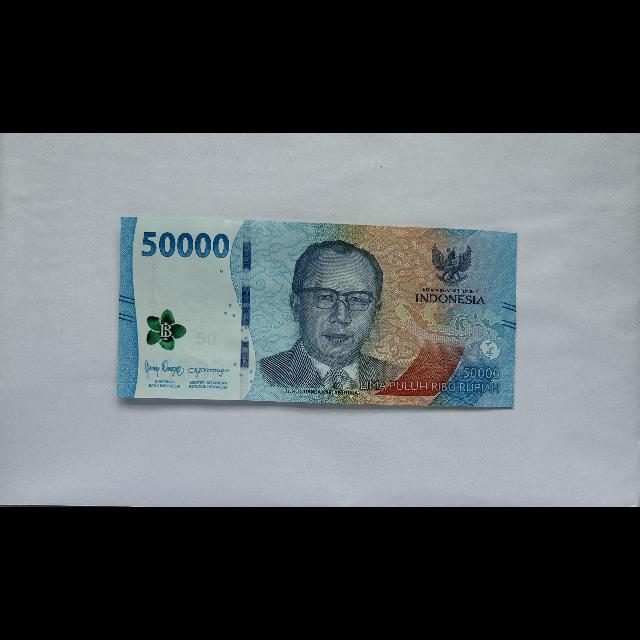Asli-50k: (111, 214, 523, 414)
Tinta-Asli-50k: (147, 308, 188, 352)
